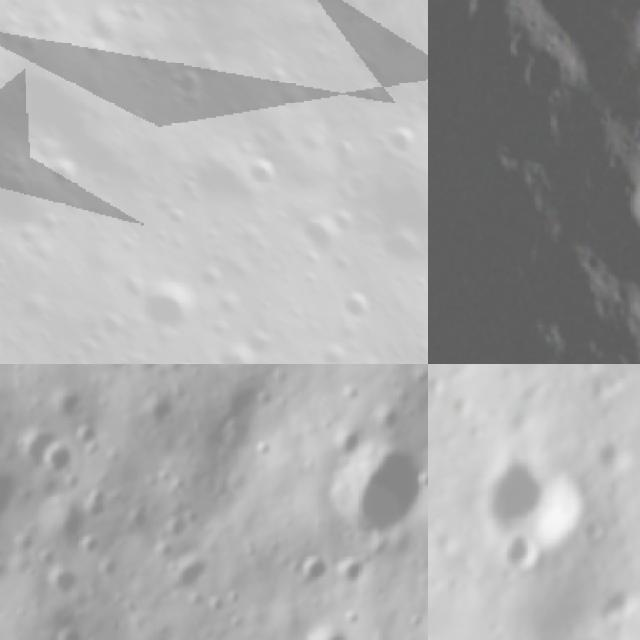crater: (428, 0, 565, 364), (321, 426, 428, 551), (481, 454, 592, 548), (123, 266, 203, 346), (517, 0, 628, 37), (233, 141, 293, 207), (521, 40, 572, 102), (334, 275, 386, 331), (159, 555, 219, 603), (296, 208, 347, 262), (376, 117, 428, 168), (170, 60, 221, 108), (595, 576, 640, 627), (578, 364, 629, 407), (496, 526, 545, 569), (39, 436, 84, 482), (11, 426, 54, 473), (322, 424, 369, 466), (41, 150, 85, 193), (294, 550, 332, 594), (46, 561, 86, 601), (332, 553, 370, 594), (596, 435, 634, 476), (0, 468, 23, 531), (79, 527, 116, 564), (80, 489, 118, 522), (130, 40, 166, 74), (122, 506, 156, 542), (157, 514, 194, 544), (49, 620, 92, 640), (303, 621, 348, 640), (98, 558, 127, 586), (253, 439, 279, 465), (569, 628, 620, 640), (416, 265, 428, 302), (163, 355, 210, 364)
